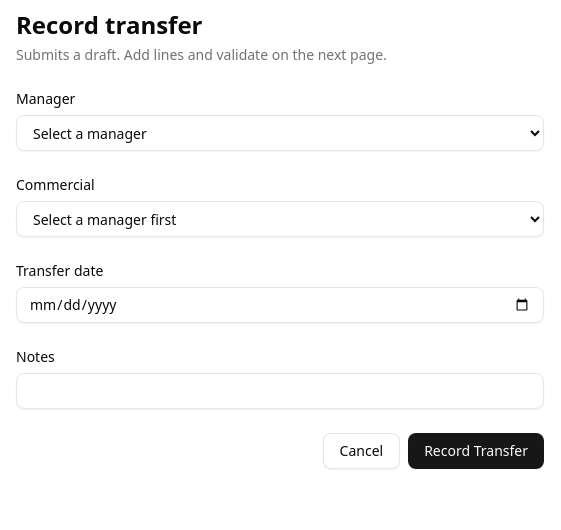
Test: validation › shows a required error for both remaining required fields on an empty submit
The width and height of the screenshot is (561, 530).
Step 1. Click the button "Record Transfer" → [476, 451], box [408, 433, 544, 469]
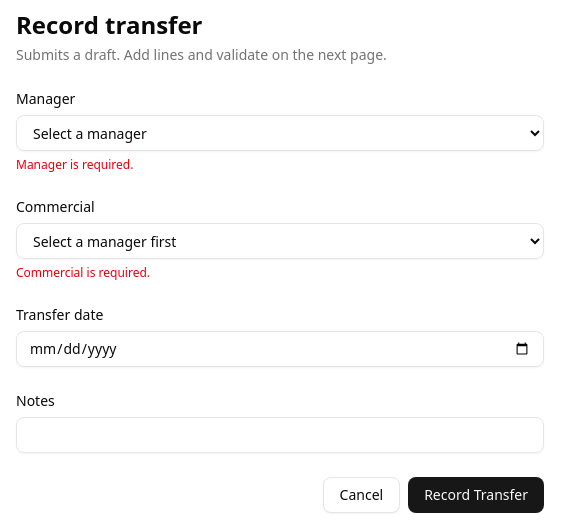
Check: the text "Manager is required." is shown, box [16, 156, 133, 173]
Check: the text "Commercial is required." is shown, box [16, 264, 150, 281]
